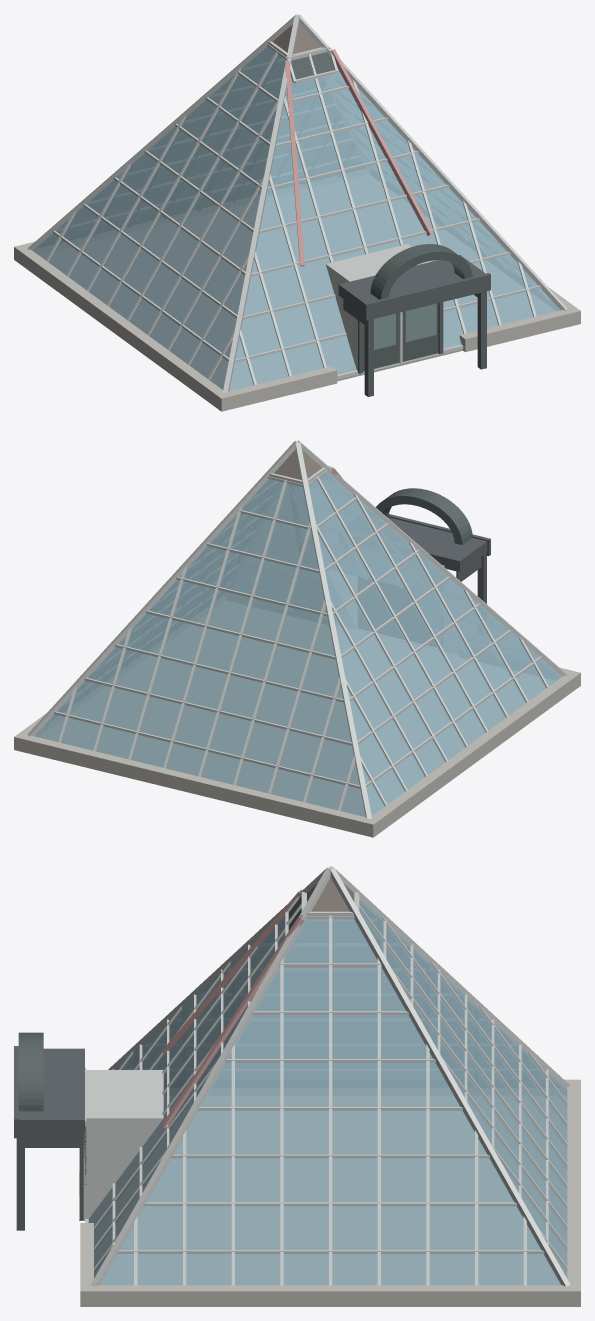
The picture shows the model from 3 angles, top to bottom: view 1: azimuth 30°, elevation 25°; view 2: azimuth 150°, elevation 25°; view 3: azimuth 270°, elevation 25°; orthographic projection. The views are drawn at different scales.
Parts seen in each view (by area): view 1: c7__frontGlass, c7__foundation, c7__glass, c7__frame, c7__graniteCurb3, c7__front-red-rafters, c7__entranceCanopyHead, c7__entranceCanopyFascia, c7__graniteCurb1, c7__door-reveals, c7__entrance-fanlight-frame, c7__graniteCurb2 (+10 smaller); view 2: c7__glass, c7__foundation, c7__frame, c7__graniteCurb0, c7__graniteCurb3, c7__door, c7__entranceCanopyHead, c7__entrance-fanlight-frame, c7__threshold, c7__graniteCurb4, c7__apex-cap, c7__door-reveals (+1 smaller); view 3: c7__glass, c7__foundation, c7__frame, c7__graniteCurb4, c7__frontGlass, c7__door-reveals, c7__entranceCanopyHead, c7__graniteCurb0, c7__front-red-rafters, c7__entrance-fanlight-frame, c7__graniteCurb3, c7__threshold (+4 smaller).
Part boxes in pixels (x1,y1,x2,y2): c7__frontGlass: (229,68,560,390); c7__foundation: (40,175,554,390); c7__glass: (33,46,285,389); c7__frame: (28,14,567,392); c7__graniteCurb3: (14,244,231,411); c7__front-red-rafters: (284,49,432,266); c7__entranceCanopyHead: (338,255,485,313); c7__entranceCanopyFascia: (364,273,490,320); c7__graniteCurb1: (216,366,337,411); c7__door-reveals: (326,244,431,370); c7__entrance-fanlight-frame: (370,244,472,299); c7__graniteCurb2: (459,307,580,352); c7__glass: (34,472,561,816); c7__foundation: (40,601,554,816); c7__frame: (27,440,566,818); c7__graniteCurb0: (14,733,378,837); c7__graniteCurb3: (363,670,580,836); c7__door: (358,577,436,646); c7__entranceCanopyHead: (388,517,487,571); c7__entrance-fanlight-frame: (375,488,472,544); c7__threshold: (327,632,437,671); c7__graniteCurb4: (14,596,224,752); c7__apex-cap: (274,449,322,479); c7__door-reveals: (328,570,356,627); c7__glass: (100,898,567,1285); c7__foundation: (90,1096,566,1284); c7__frame: (85,866,570,1286); c7__graniteCurb4: (80,1285,580,1306); c7__frontGlass: (88,916,285,1278); c7__door-reveals: (82,1070,163,1220); c7__entranceCanopyHead: (19,1048,84,1133); c7__graniteCurb0: (567,1079,580,1306); c7__front-red-rafters: (161,889,304,1128); c7__entrance-fanlight-frame: (18,1032,43,1111); c7__graniteCurb3: (164,1079,580,1094); c7__threshold: (79,1172,162,1220).
Bounding box in the file's own units: 10.95 × 8.07 × 12.4.
